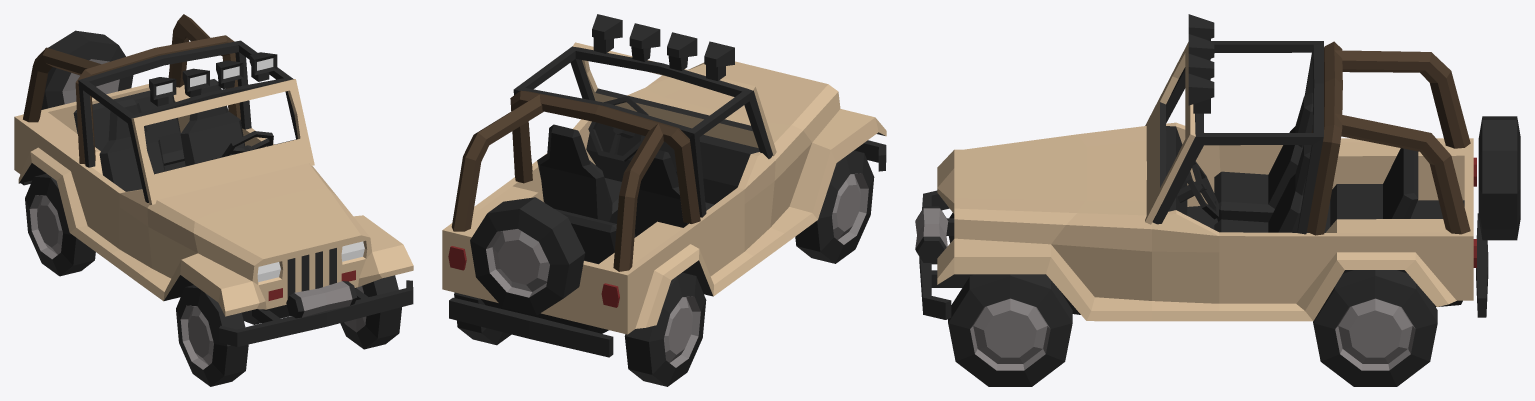
Rendered from vehicles-jeep-open.glb.
3 renders of one model, left to right at view 1: azimuth 30°, elevation 25°; view 2: azimuth 150°, elevation 25°; view 3: azimuth 270°, elevation 25°, orthographic. The views are drawn at different scales.
Parts seen in each view (by area): view 1: jeep-open-base, jeep-open-wheel_FR, jeep-open-wheel_BL, jeep-open-wheel_FL; view 2: jeep-open-base, jeep-open-wheel_BL, jeep-open-wheel_FR, jeep-open-wheel_BR; view 3: jeep-open-base, jeep-open-wheel_FL, jeep-open-wheel_BR.
Boxes of the visible parts, x1,y1,x2,y2 form: jeep-open-base: (14,14,413,346); jeep-open-wheel_FR: (176,285,248,386); jeep-open-wheel_BL: (25,173,95,276); jeep-open-wheel_FL: (340,275,401,349); jeep-open-base: (442,14,886,357); jeep-open-wheel_BL: (624,272,706,386); jeep-open-wheel_FR: (795,150,874,263); jeep-open-wheel_BR: (454,292,511,345); jeep-open-base: (915,14,1520,321); jeep-open-wheel_FL: (948,274,1072,386); jeep-open-wheel_BR: (1313,270,1437,386).
Size of the model in its own units: 1.83 by 2.12 by 4.09.
